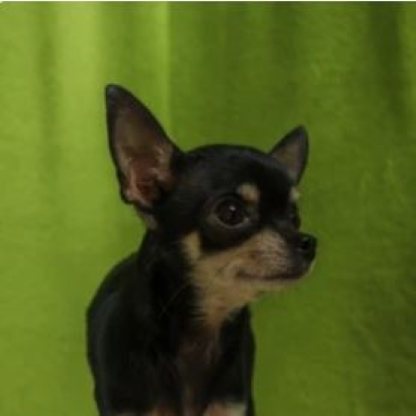chihuahua: (81, 81, 322, 413)
